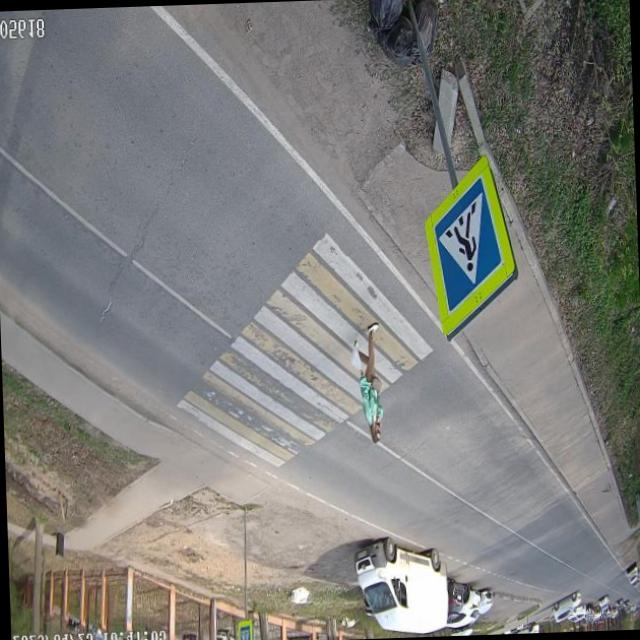person: (351, 322, 384, 444)
